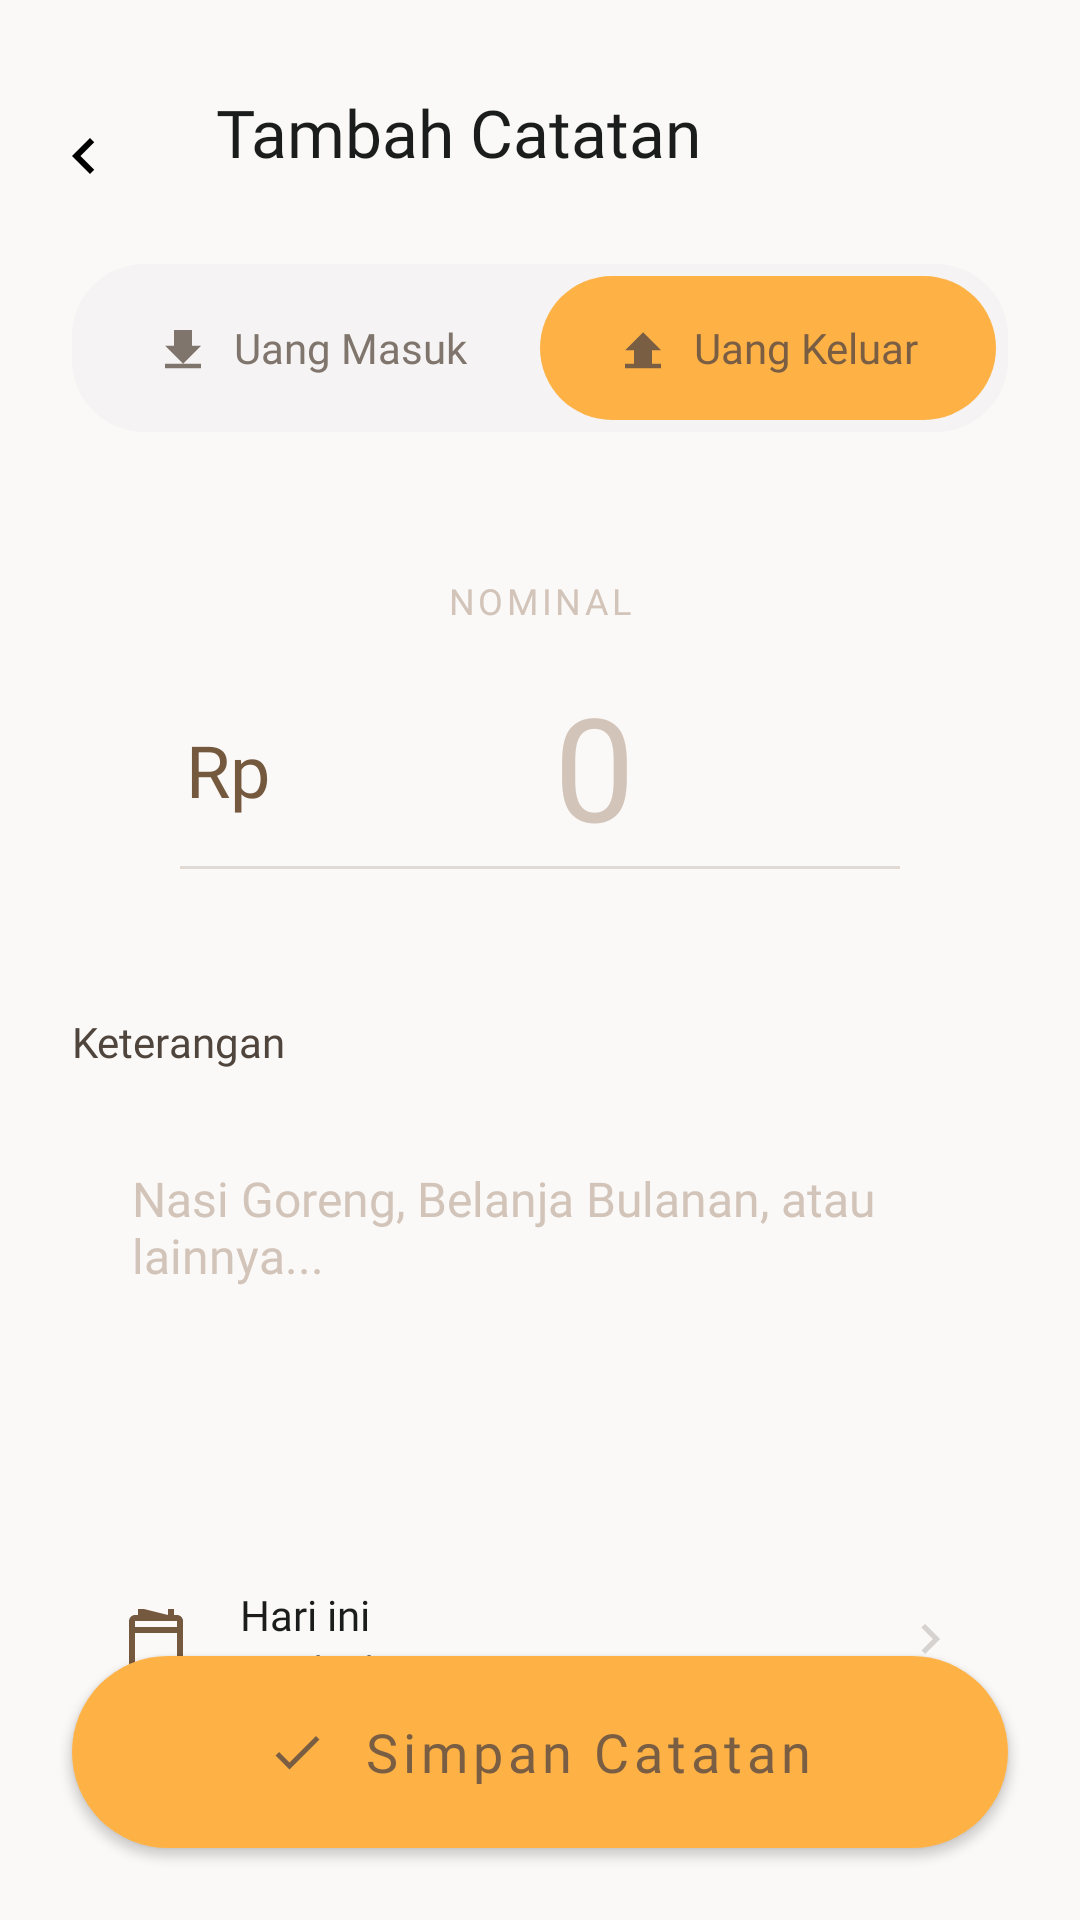

Icons on this 1080×1920 Android screen, each with its box as (x1, y1, x2, y2):
expense: (625, 332, 661, 369)
income: (165, 330, 201, 369)
